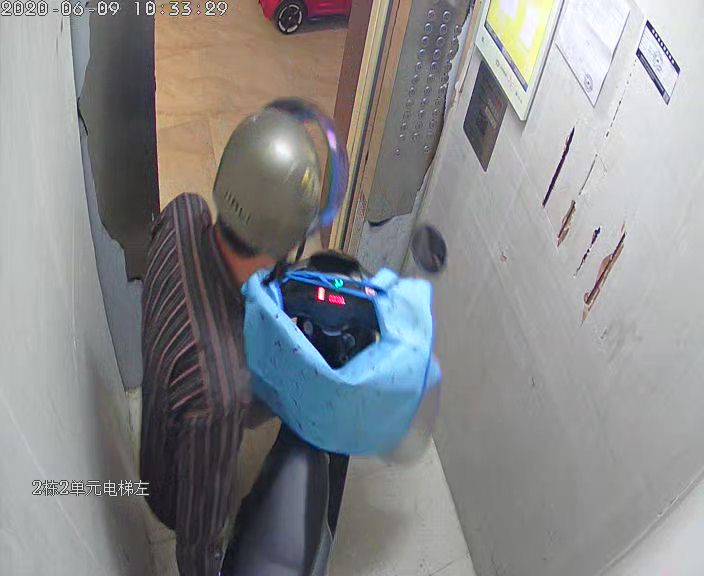Electric-bicycle: (227, 225, 444, 576)
